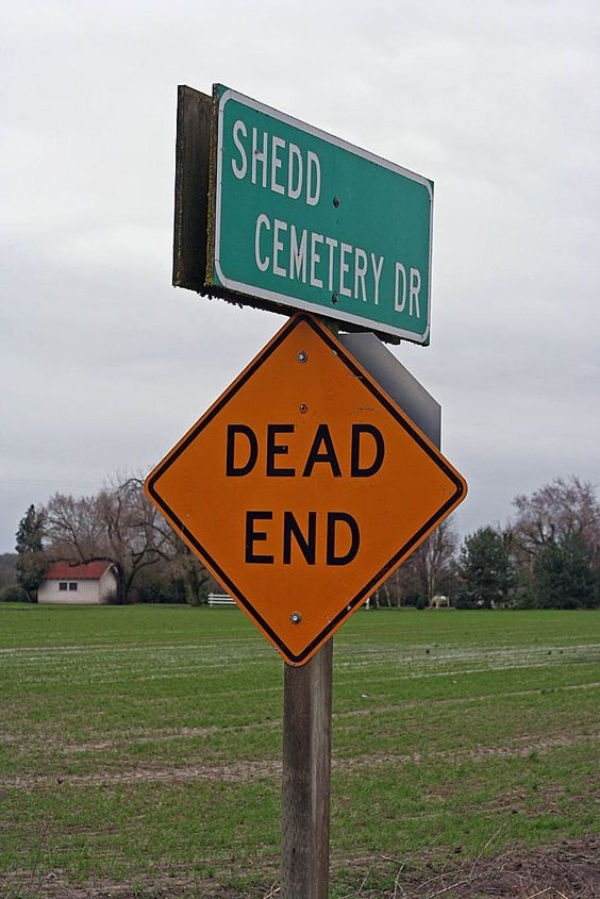text: (257, 211, 272, 306), (273, 211, 288, 306), (289, 211, 304, 306), (305, 211, 320, 306), (321, 211, 336, 306), (337, 211, 352, 306), (353, 211, 368, 306), (369, 211, 384, 306), (241, 116, 256, 208), (257, 116, 272, 208), (273, 116, 288, 208), (289, 116, 304, 208), (305, 116, 320, 208), (401, 261, 416, 319), (257, 510, 272, 565), (273, 510, 288, 565), (289, 510, 304, 565), (305, 510, 320, 565), (321, 510, 336, 565), (337, 510, 352, 565), (241, 424, 256, 478), (257, 424, 272, 478), (273, 424, 288, 478), (289, 424, 304, 478), (305, 424, 320, 478), (321, 424, 336, 478), (337, 424, 352, 478), (353, 424, 368, 478), (369, 424, 384, 478), (226, 424, 240, 478), (233, 116, 240, 208), (245, 510, 256, 565), (353, 510, 360, 565), (417, 261, 423, 319), (395, 261, 400, 319), (385, 211, 387, 306), (321, 116, 323, 208), (385, 424, 386, 478)
